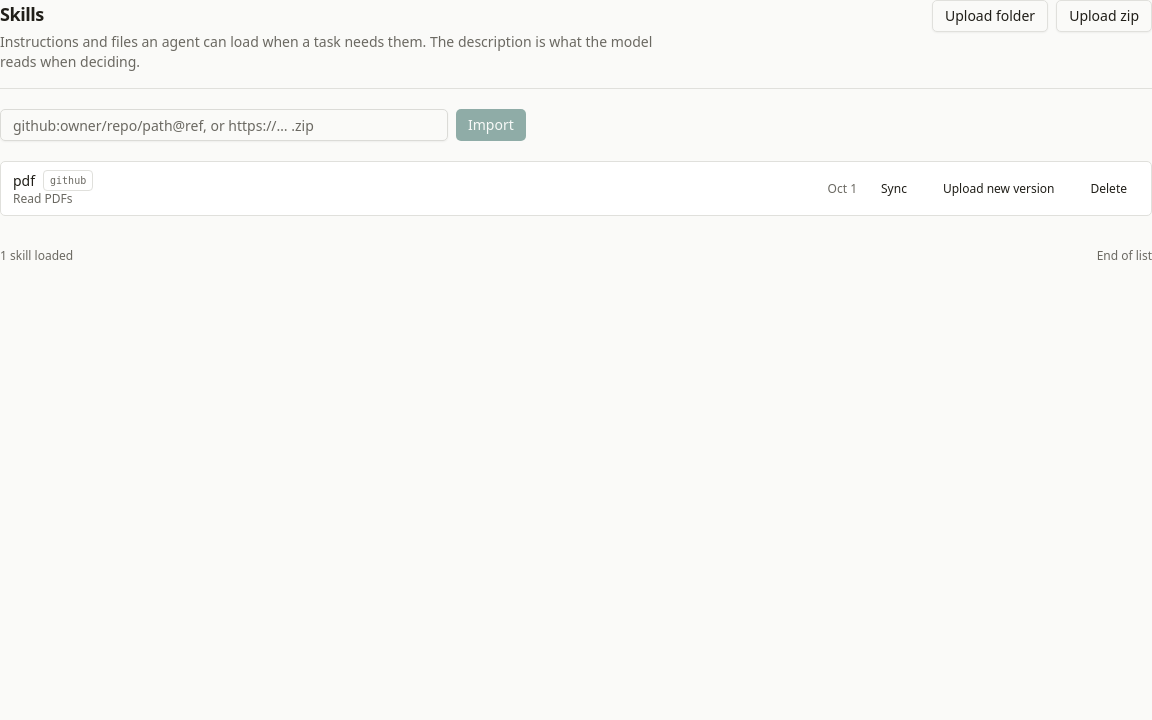
Test: sends a new version picked as a folder to that skill, one part per file
The width and height of the screenshot is (1152, 720).
Click the button "Upload new version": (999,188) [931,172,1066,204]
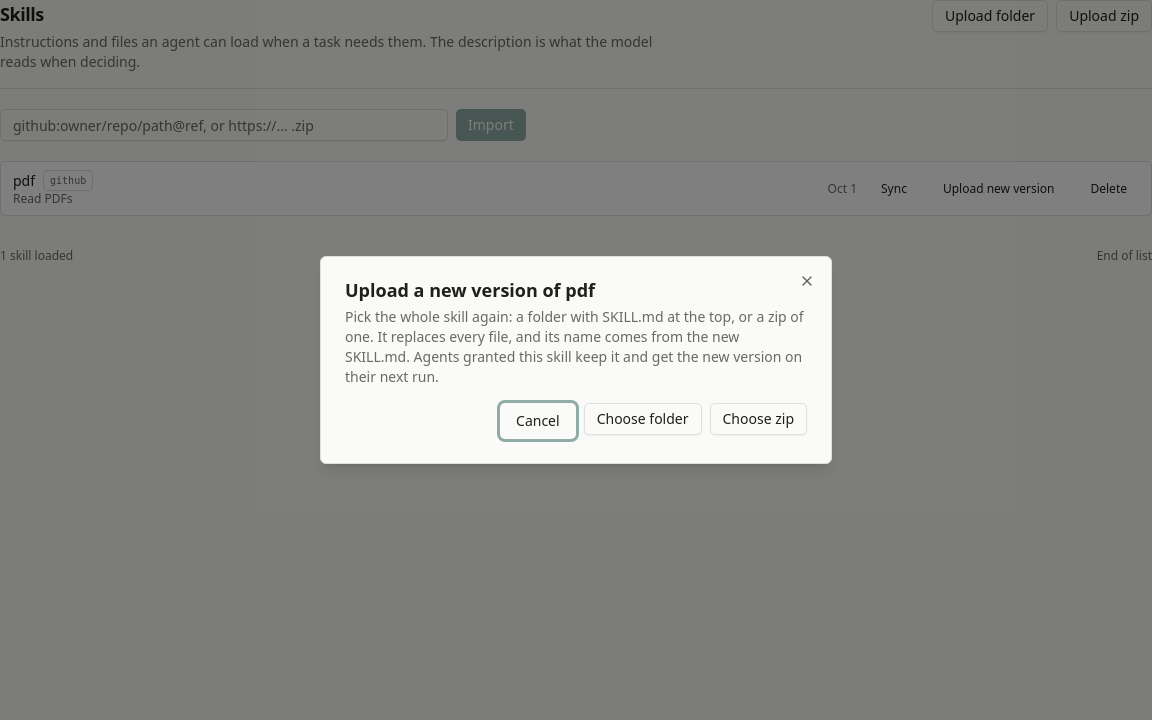
Now the text "agents granted this skill keep it" is shown, box [345,307,804,386]
